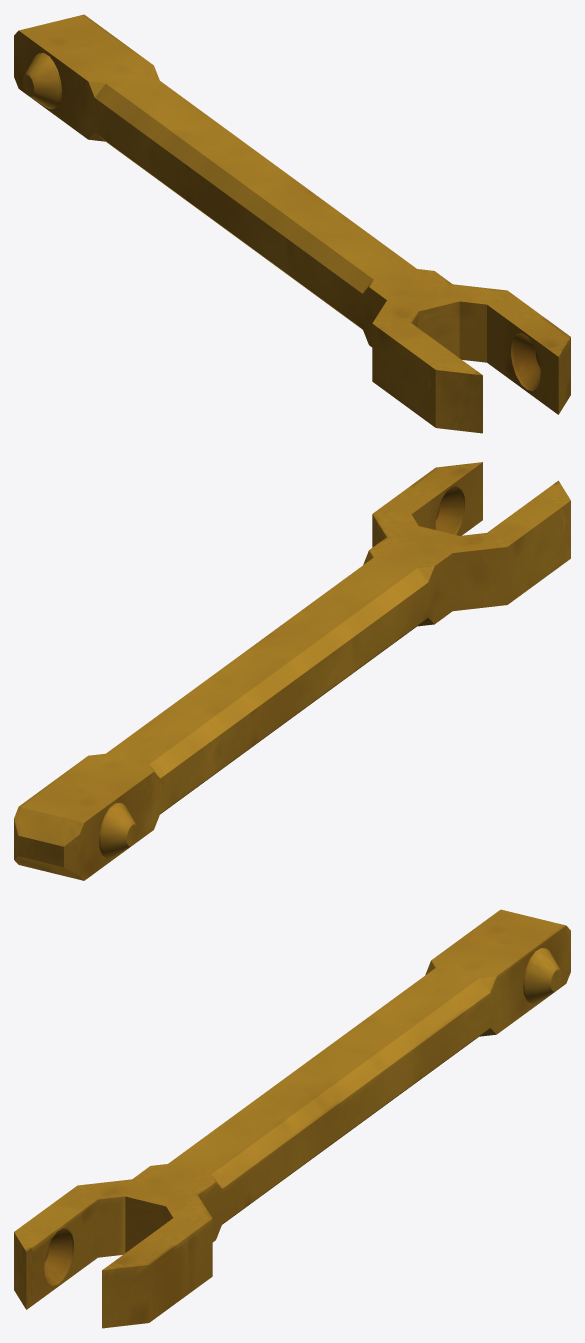
Rendered from inserter-arm-long-upper.glb.
3 views of the same model, one above another, from view 1: azimuth 30°, elevation 25°; view 2: azimuth 150°, elevation 25°; view 3: azimuth 330°, elevation 25° (orthographic).
Parts seen in each view (by area): view 1: body; view 2: body; view 3: body.
Boxes of the visible parts, x1,y1,x2,y2 form: body: (14, 14, 570, 433); body: (14, 462, 570, 880); body: (14, 909, 570, 1328).
Bounding box in the file's own units: 0.2197 × 0.0905 × 1.35.
Materials: 1 (1 with a texture image).
